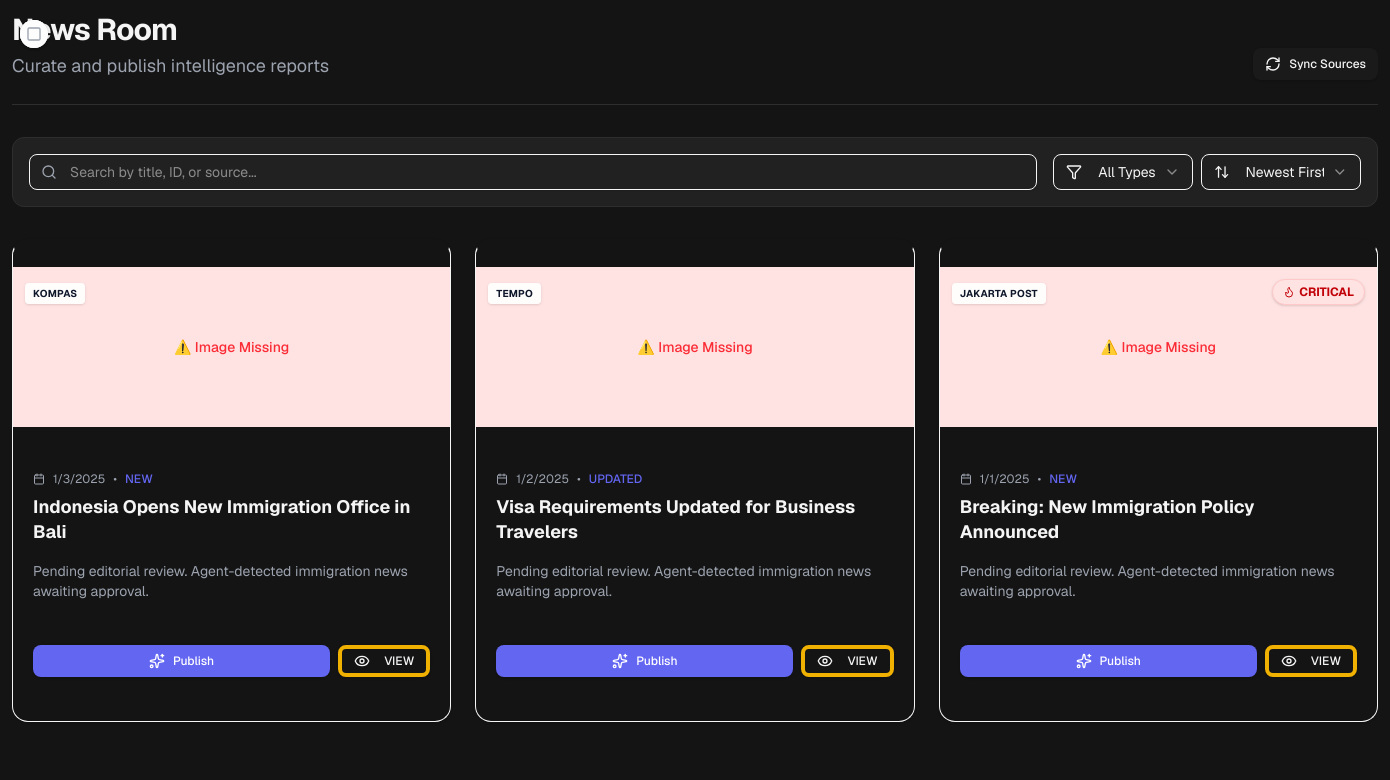
Test: NewsRoomPage › Filtering and Sorting › should filter items by search query
Check: the heading "Breaking: New Immigration Policy Announced" is shown, box [960,495,1255,543]
Type "Breaking" into the field with placeholder "Search by title, ID, or source...".
click(533, 172); type("Breaking")  # box [29,154,1037,190]
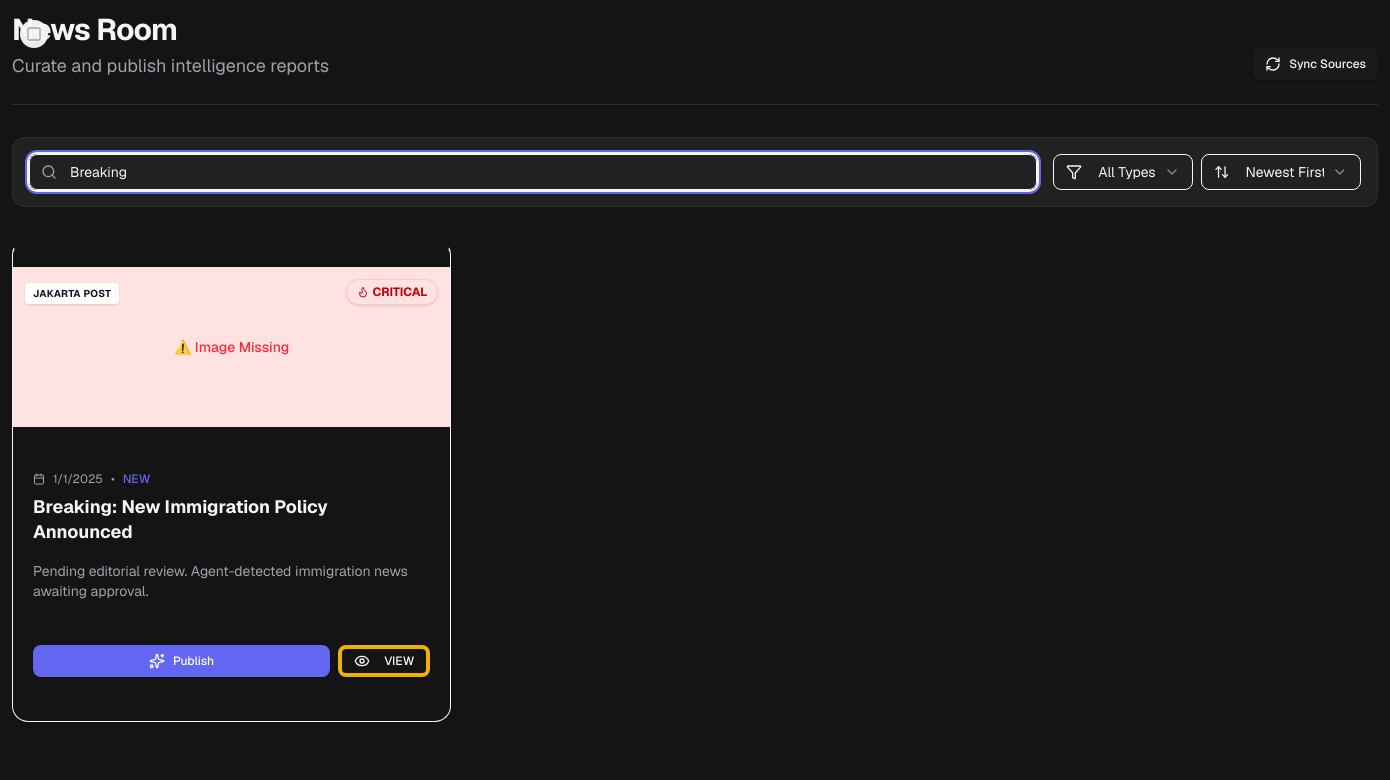
Check: the heading "Breaking: New Immigration Policy Announced" is shown, box [33,495,328,543]
Check: the heading "Visa Requirements Updated" is gone
